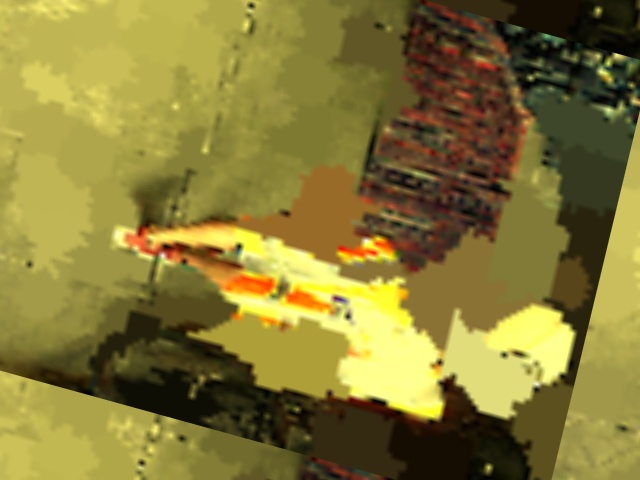three: (487, 347, 545, 396)
